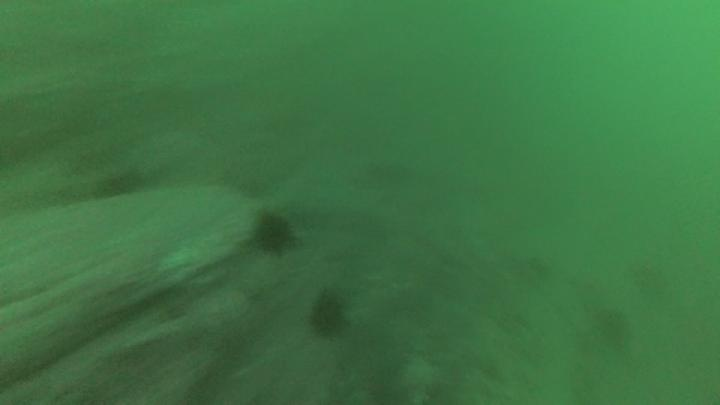echinus: (306, 287, 351, 341), (250, 209, 298, 257), (588, 303, 634, 351)
